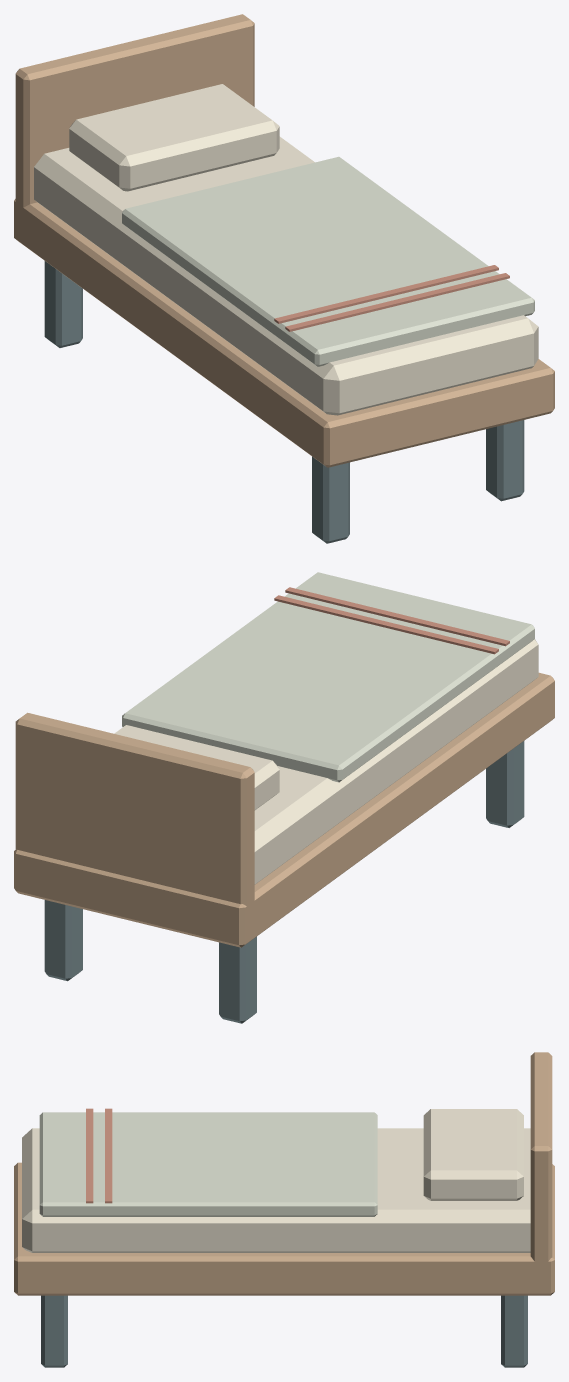
File: bed.glb
3 renders of one model, top to bottom at view 1: azimuth 30°, elevation 25°; view 2: azimuth 150°, elevation 25°; view 3: azimuth 270°, elevation 25°, orthographic. The views are drawn at different scales.
Visible parts, largest first — view 1: bed; view 2: bed; view 3: bed.
Part boxes in pixels (left/top/right/bottom): bed: left=14, top=14, right=554, bottom=543; bed: left=14, top=572, right=554, bottom=1023; bed: left=14, top=1052, right=554, bottom=1367.
Bounding box in the file's own units: 0.85 × 0.93 × 2.
